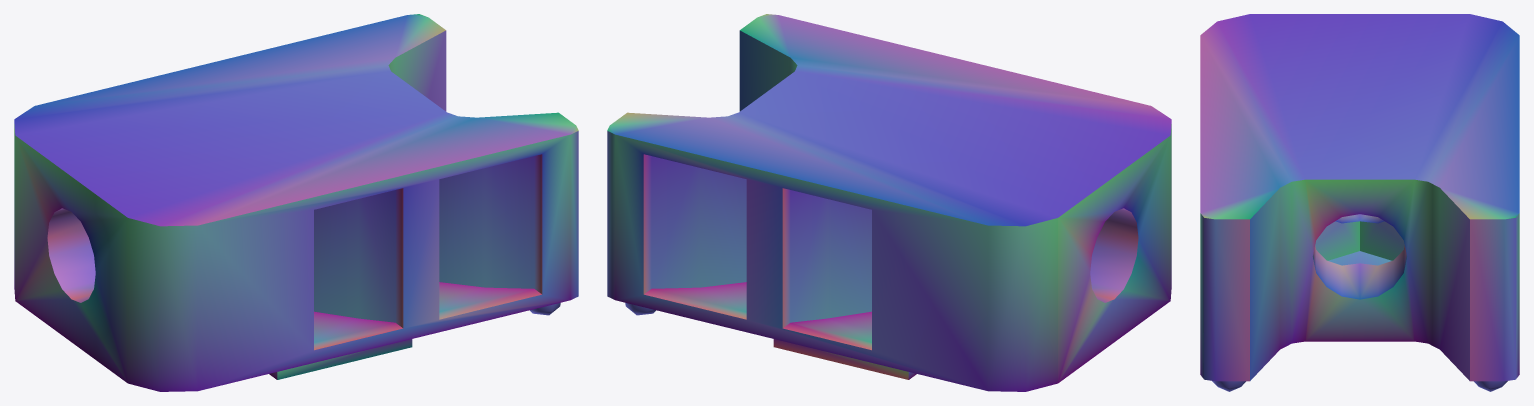
File: cw_CheyanneSSR01_Silencer_WL.fbx
3 renders of one model, left to right at view 1: azimuth 30°, elevation 25°; view 2: azimuth 150°, elevation 25°; view 3: azimuth 270°, elevation 25°, orthographic. The views are drawn at different scales.
Visible parts, largest first — view 1: cw_CheyanneSSR01_Silencer_WL_lod0; view 2: cw_CheyanneSSR01_Silencer_WL_lod0; view 3: cw_CheyanneSSR01_Silencer_WL_lod0.
Boxes of the visible parts, x1=… form: cw_CheyanneSSR01_Silencer_WL_lod0: x1=14, y1=14, x2=578, y2=391; cw_CheyanneSSR01_Silencer_WL_lod0: x1=607, y1=14, x2=1171, y2=391; cw_CheyanneSSR01_Silencer_WL_lod0: x1=1200, y1=14, x2=1519, y2=391.
Size of what is drawn, in the model's own units: 0.0947 by 0.0392 by 0.0622.
